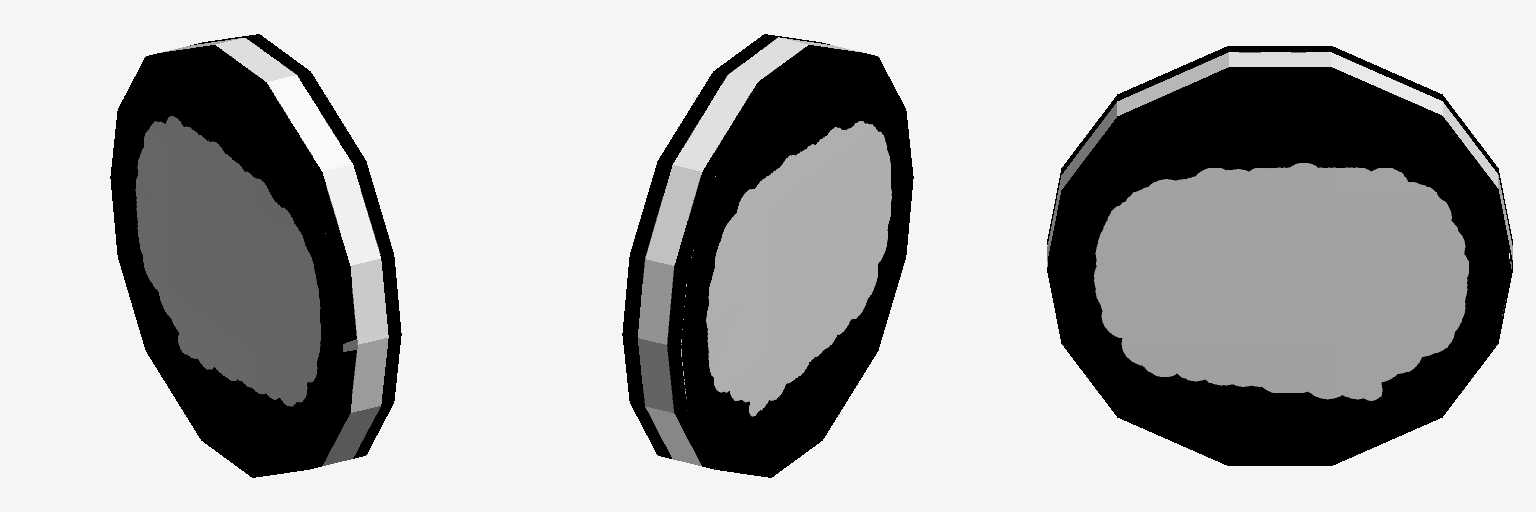
3 renders of one model, left to right at view 1: azimuth 30°, elevation 25°; view 2: azimuth 150°, elevation 25°; view 3: azimuth 270°, elevation 25°, orthographic.
Visible parts, largest first — view 1: pCube1; view 2: pCube1; view 3: pCube1.
Boxes of the visible parts, box(x1,y1,x2,y2) form: pCube1: box(110, 34, 401, 477); pCube1: box(622, 34, 913, 477); pCube1: box(1047, 46, 1512, 465).
Size of the model in its own units: 0.2135 by 1.33 by 1.43.
1 materials, 1 textured.